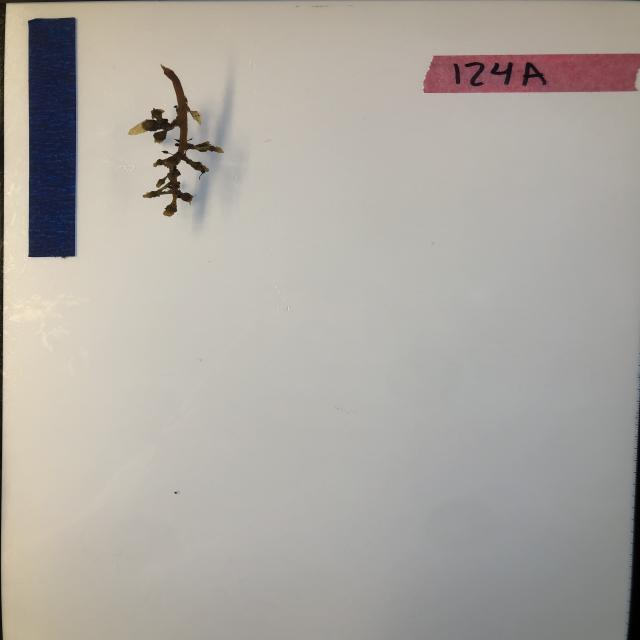index: (420, 52, 640, 93)
measure_label: (24, 14, 82, 259)
rachis_cluster: (127, 61, 229, 222)
